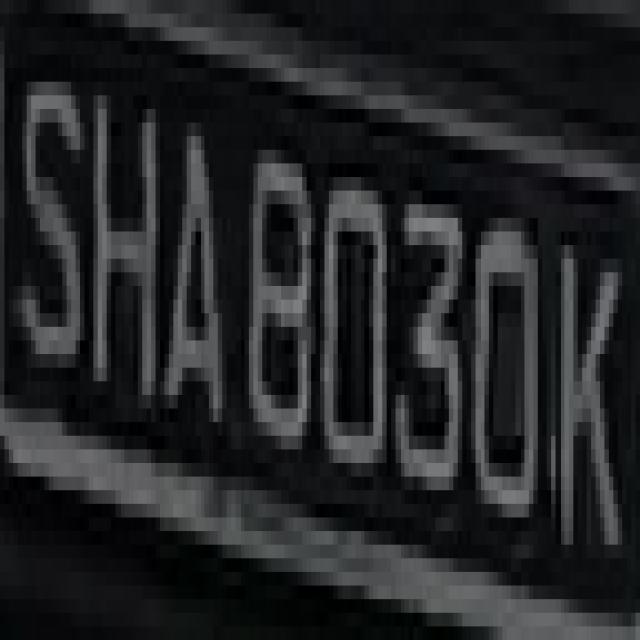0: (311, 122, 400, 504), (458, 150, 542, 531)
3: (373, 123, 471, 531)
8: (244, 96, 324, 490)
A: (156, 109, 231, 504)
H: (84, 41, 169, 504)
K: (546, 204, 626, 558)
S: (18, 28, 89, 382)
